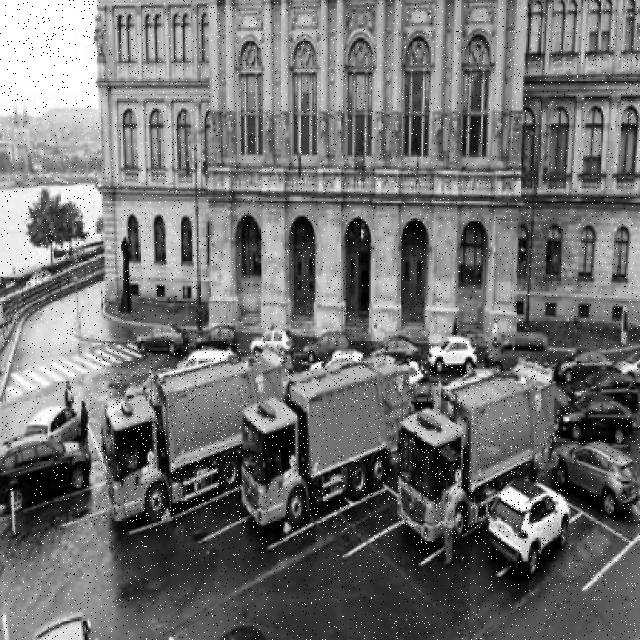Garbage Truck: (100, 349, 289, 523), (241, 356, 415, 528), (396, 363, 554, 545)
